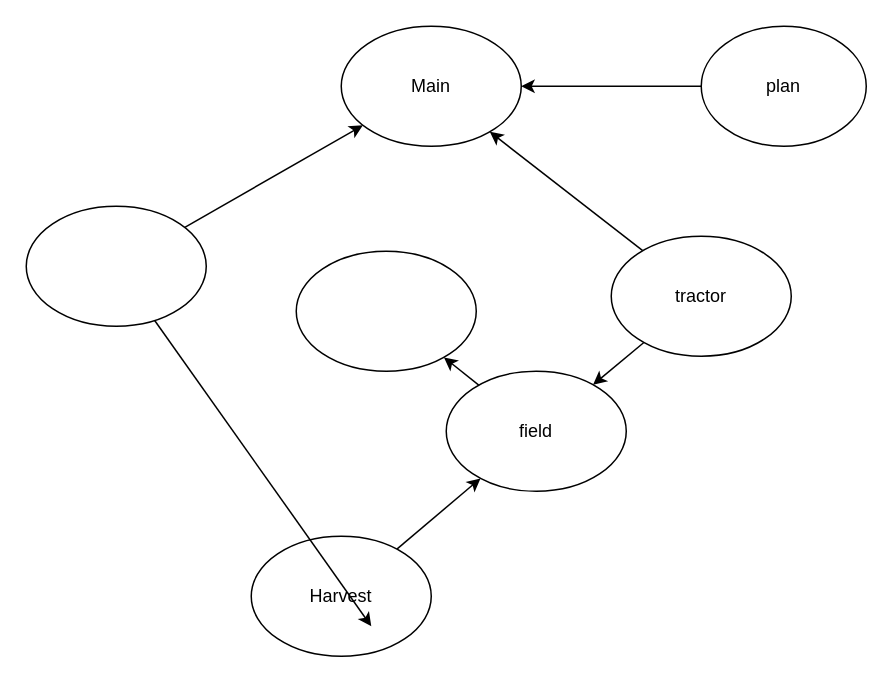
Image size: 893x683. Some labels were removed from this diagram. The centre of each missing label's shape, as x and y in pixels:
"Catalog" goes at (x=115, y=265).
"seeds" goes at (x=385, y=310).
